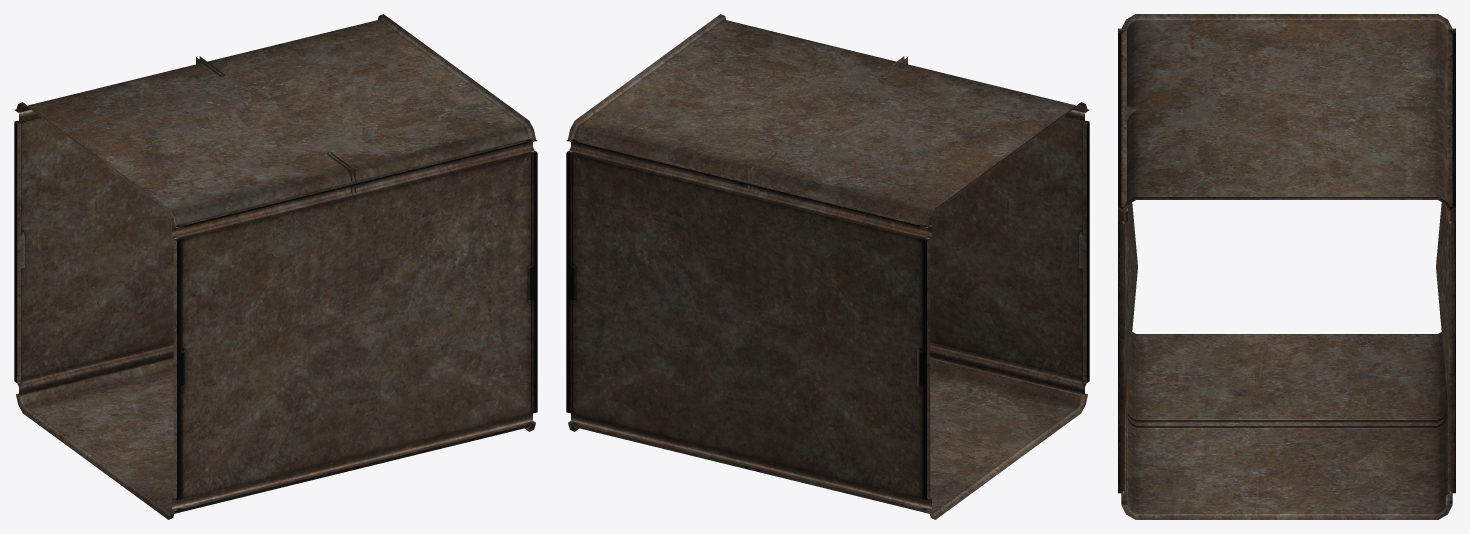
The model's file is vent_shaft_straight_rusty.dae.
3 views of the same model, side by side, from view 1: azimuth 30°, elevation 25°; view 2: azimuth 150°, elevation 25°; view 3: azimuth 270°, elevation 25° (orthographic). The views are drawn at different scales.
Visible parts, largest first — view 1: straight; view 2: straight; view 3: straight.
Boxes of the visible parts, x1,y1,x2,y2 form: straight: (14,14,537,519); straight: (566,14,1089,519); straight: (1118,14,1455,519).
Size of the model in its own units: 2 by 1.65 by 1.56.
